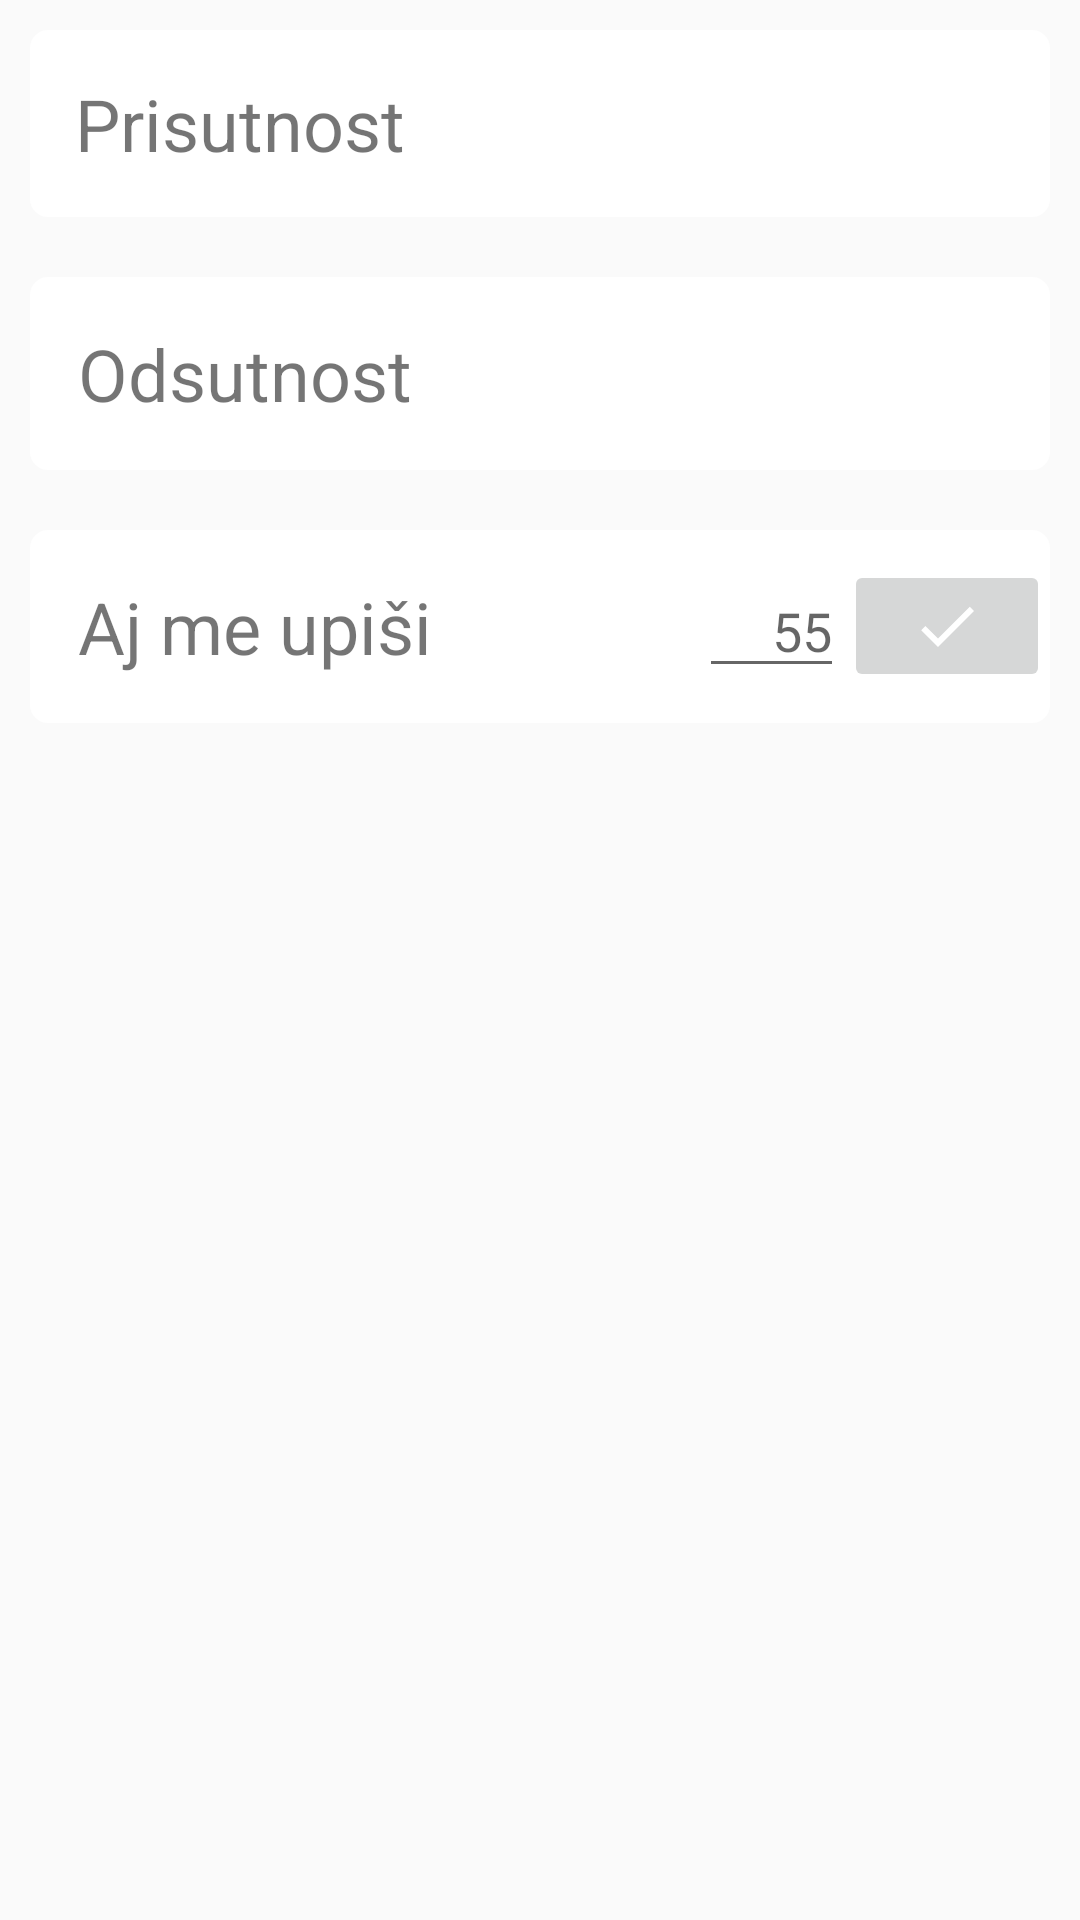

Point at icon controls on the screen. Image size 1080px×1920px, points as (x=x, y=y).
done: (x=947, y=626)
